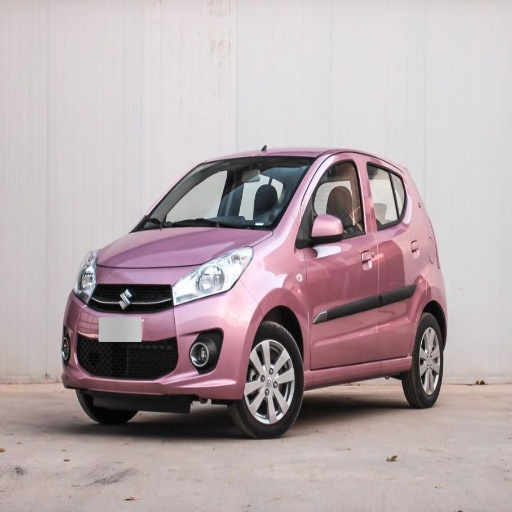front_bumper: (65, 264, 257, 399)
front_glass: (134, 157, 313, 231)
front_left_door: (298, 155, 379, 371)
